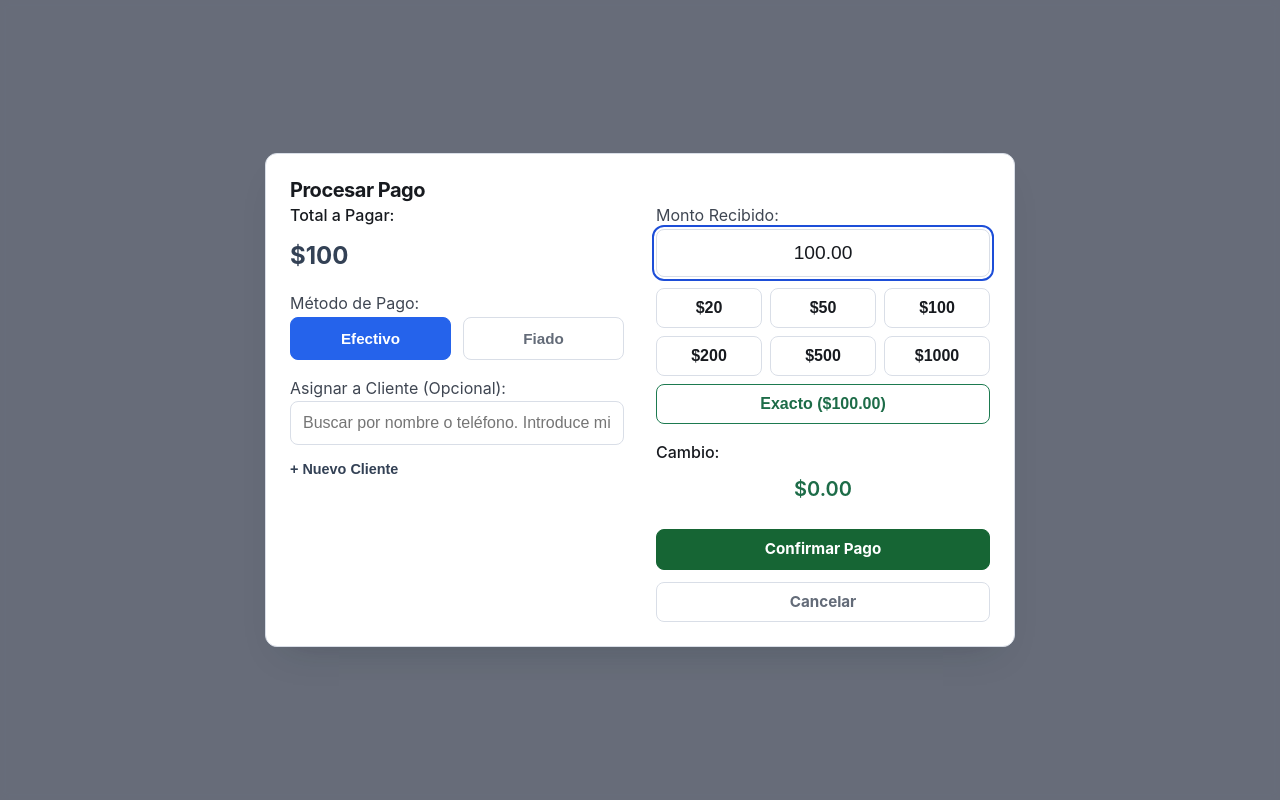
Scenario: PaymentModal › mantiene el alta normal opcional sin crédito y bloquea un abono mayor al total
Click the button "+ Nuevo Cliente" at (344, 469), box [290,453,398,485]
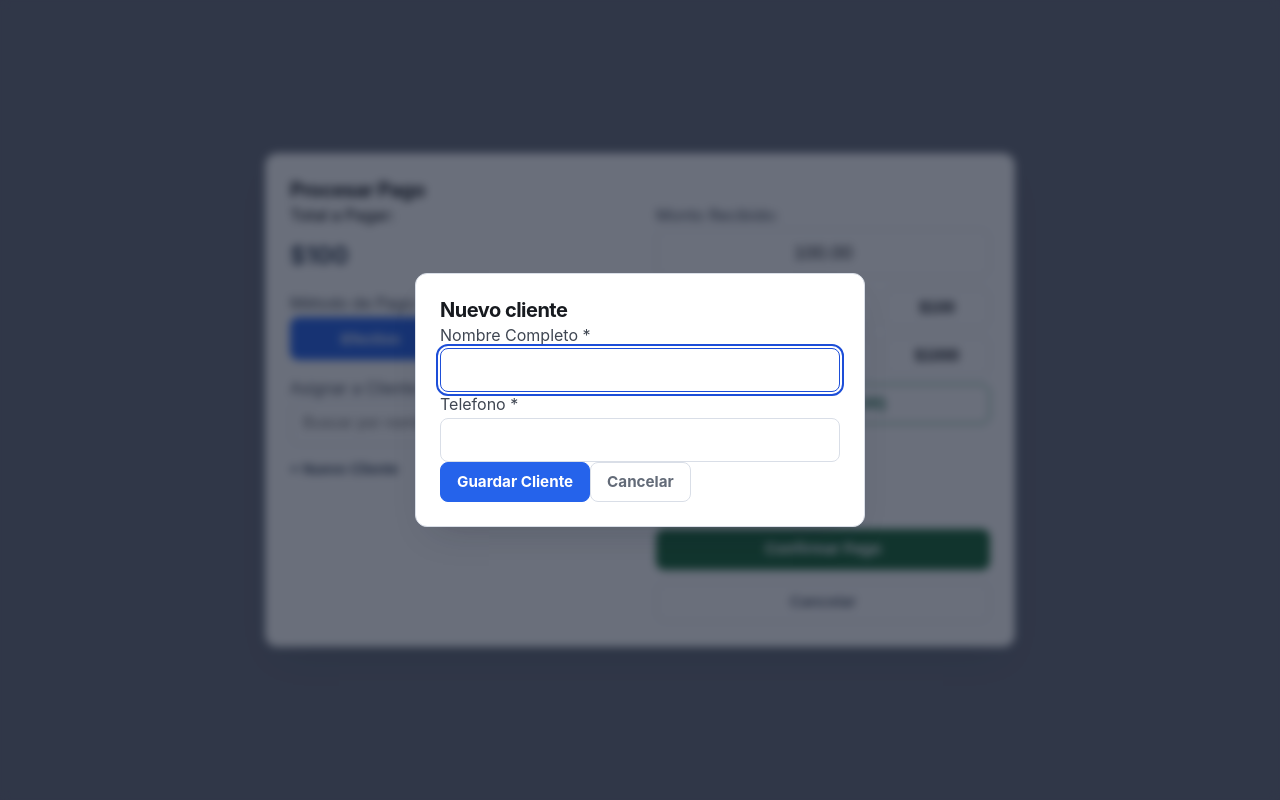
Type "Cliente sin crédito" into the field labelled "Nombre Completo *" at (640, 370), box [440,348,840,392]
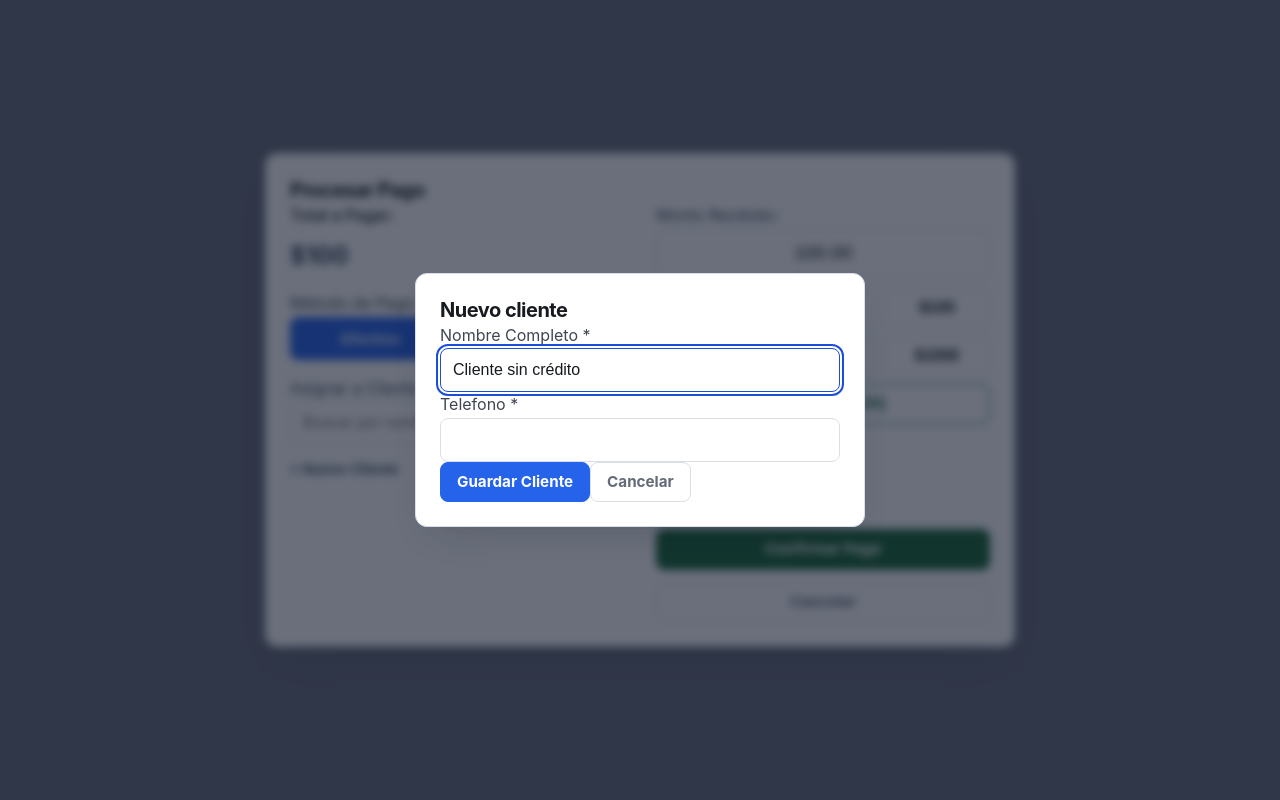
Type "5554445555" into the field labelled "Telefono *" at (640, 440), box [440,418,840,462]
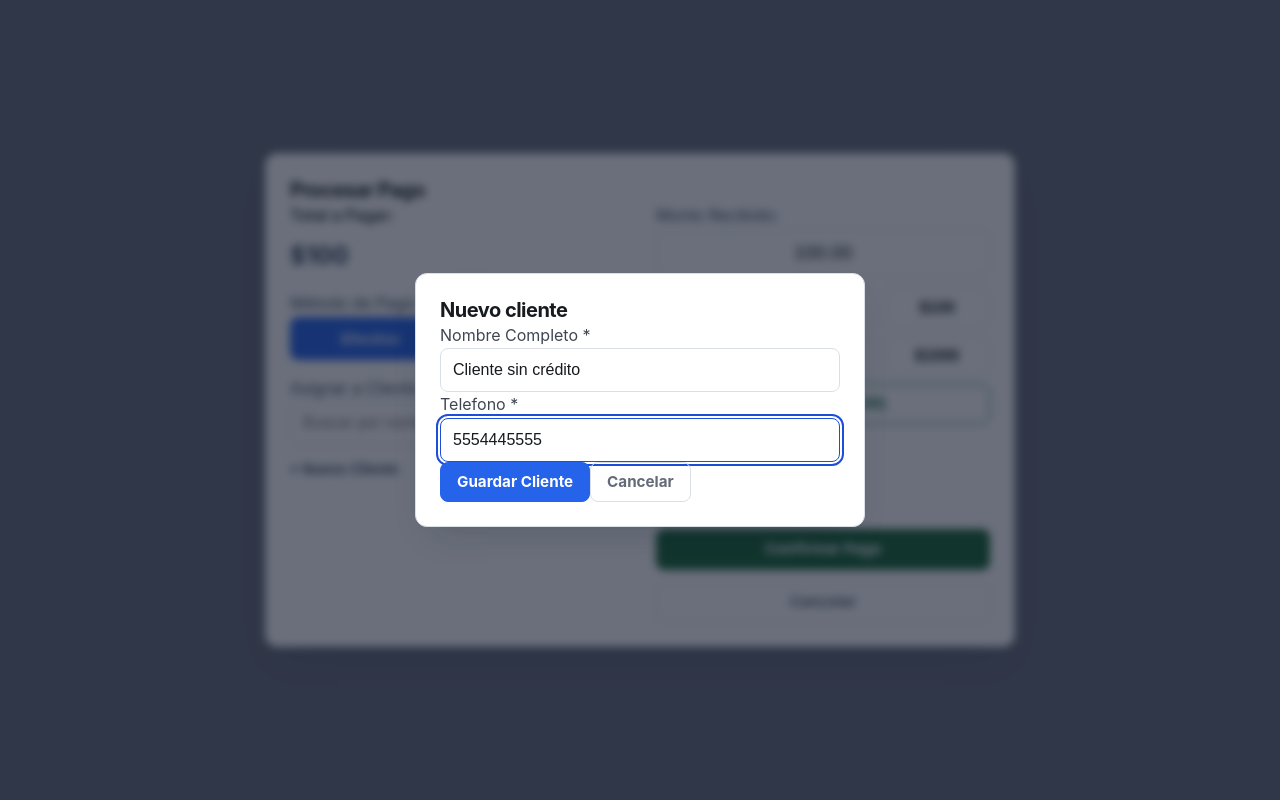
Click the button "Guardar Cliente" at (515, 482), box [440,462,590,502]
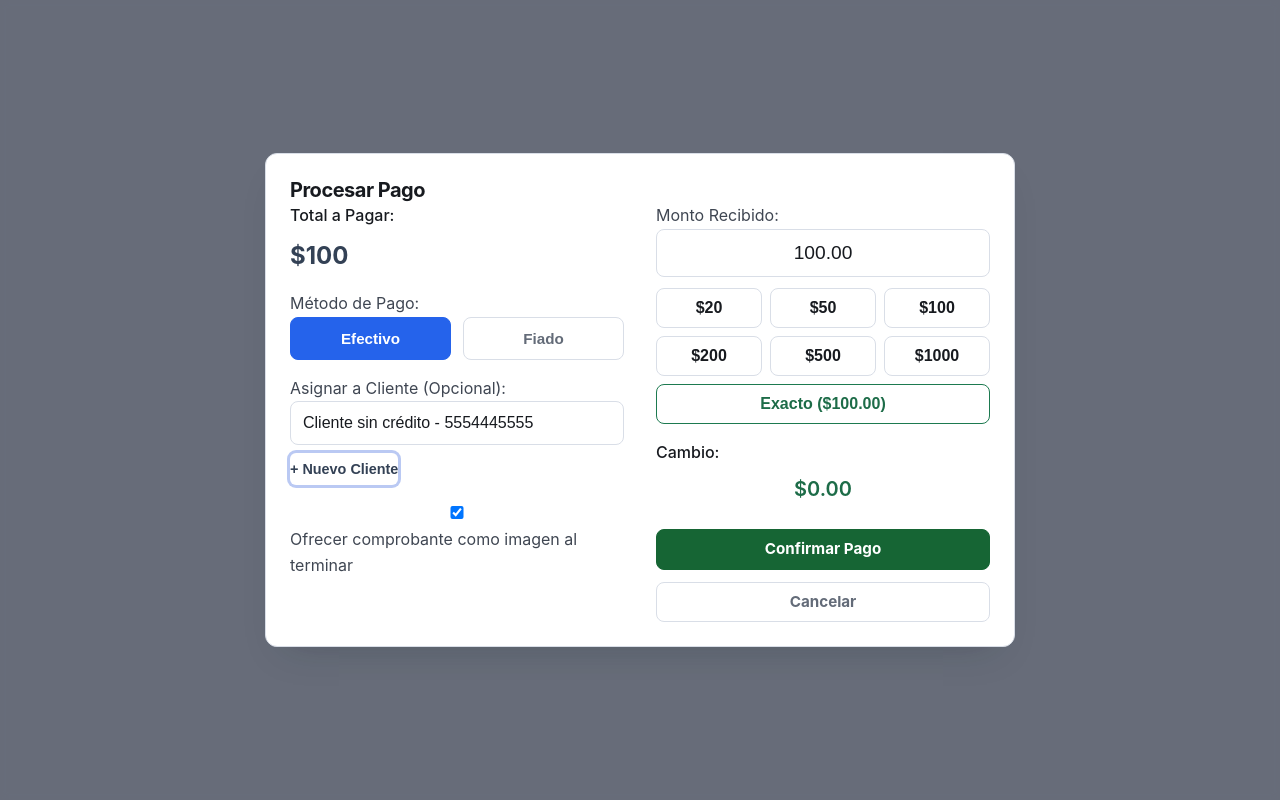
Click the button "Fiado" at (544, 338), box [463,317,624,360]
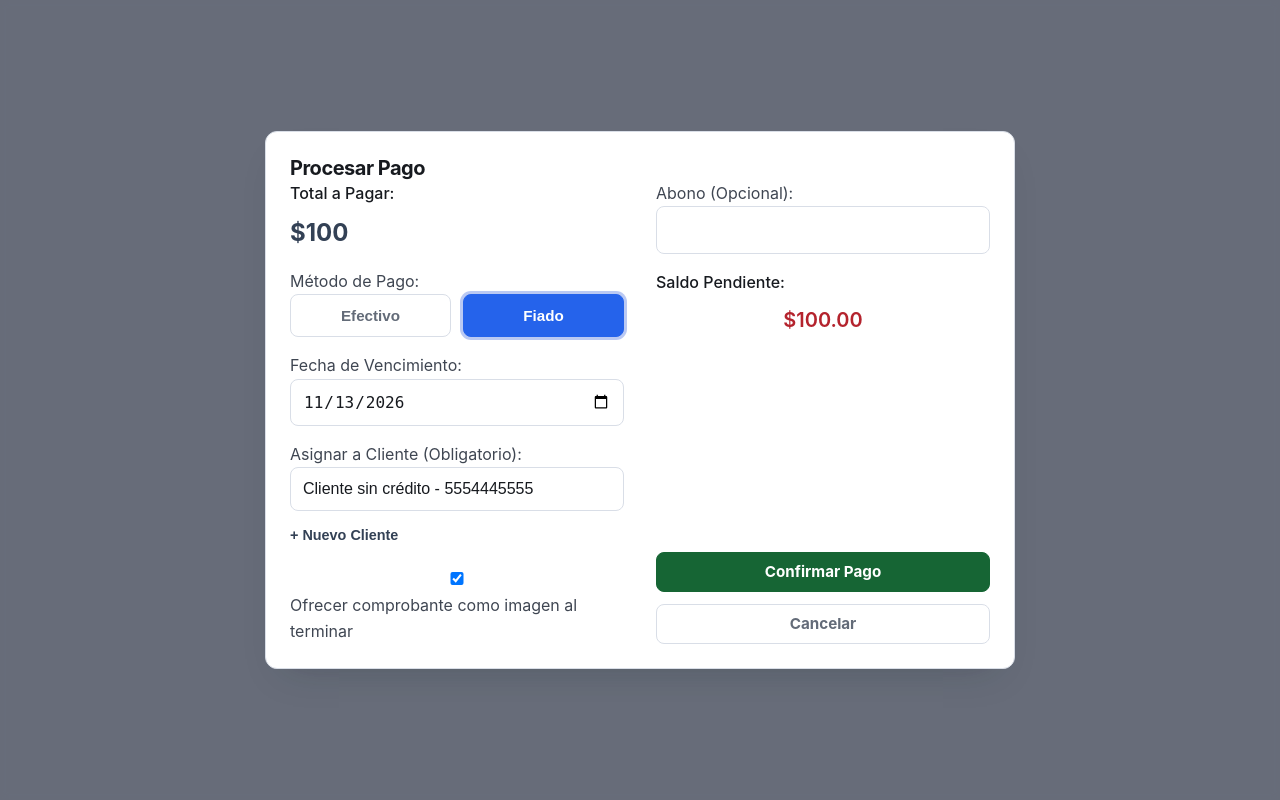
Type "101" into the field labelled "Abono (Opcional):" at (823, 230), box [656,206,990,254]
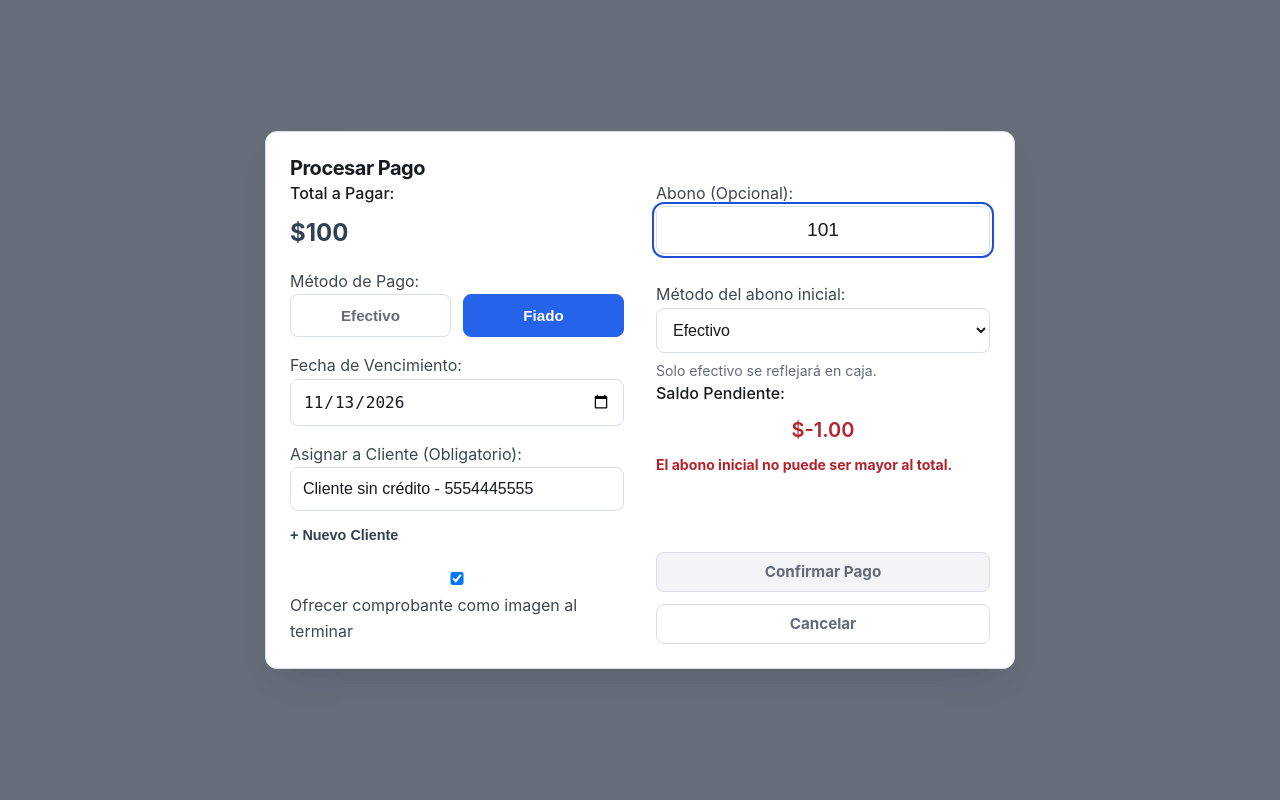
Result: the text "El abono inicial no puede ser mayor al total." is shown at [656,454,990,477]
Result: the button "Confirmar Pago" is disabled at [656,552,990,592]
